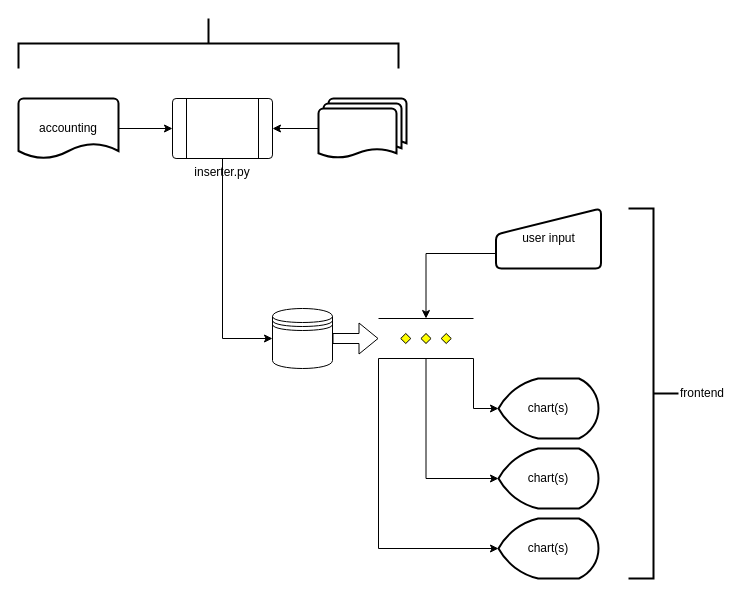
The diagram is 741 pixels wide and 596 high, and some of its shapes have lost their labels. Here are the shapes that lost their labels. From the top down, the centre of each, then its label:
the point at 208,43: backend
the point at 362,128: config, yml
the point at 302,338: postgresql
